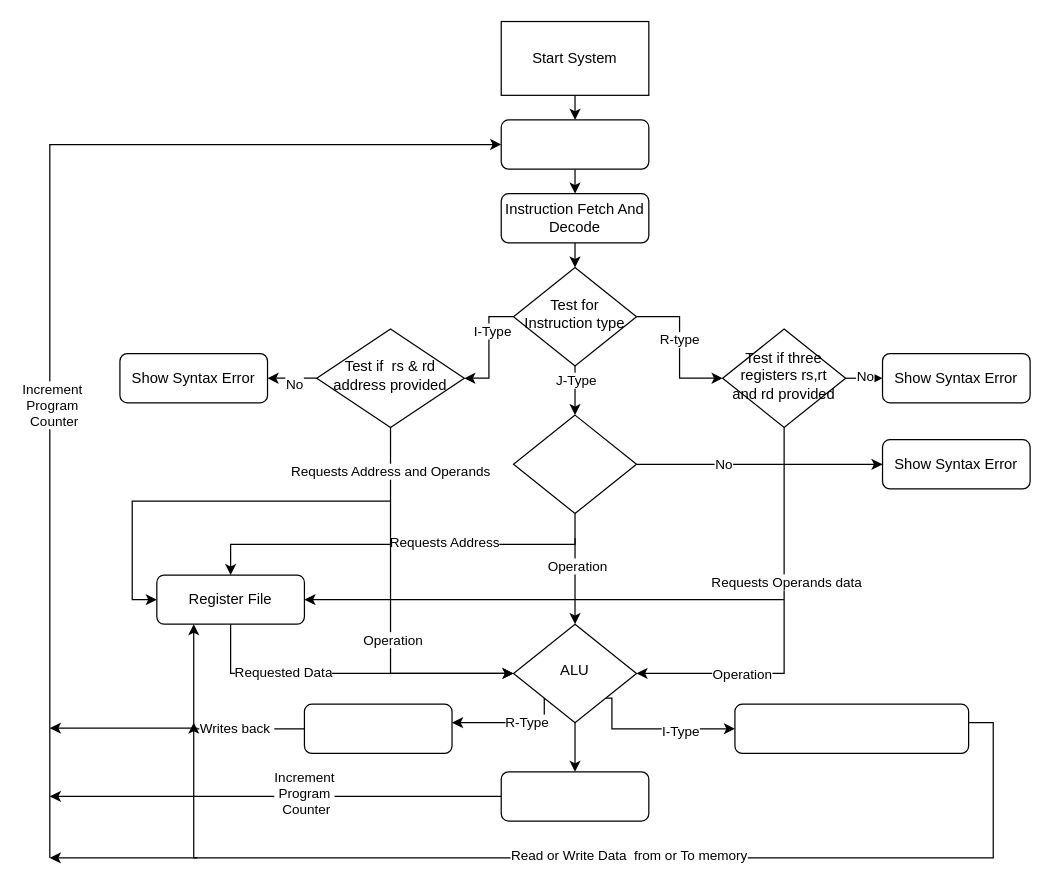
The diagram is 1052 pixels wide and 889 high, and some of its shapes have lost their labels. Each missing label, with the box of its shape:
Acccess Memory Address and Data Registers for Read/Write: (734, 703, 969, 753)
Goto to an address in Memory: (500, 771, 649, 821)
Initiate Program Counter: (500, 119, 649, 169)
Perform Calculation: (303, 703, 452, 753)
Test If Rs provided: (512, 414, 637, 514)
